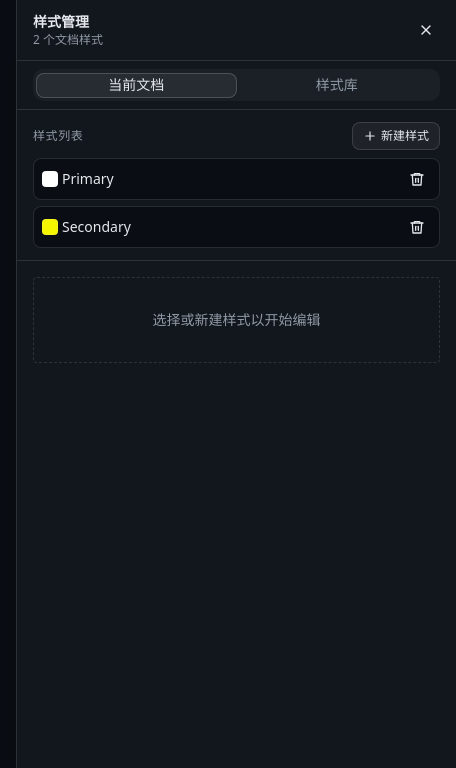
Test: StyleManager library integration › does not flash a duplicate-name warning when switching document styles
Click the button "Primary".
click(88, 178)  # box [33,158,440,200]
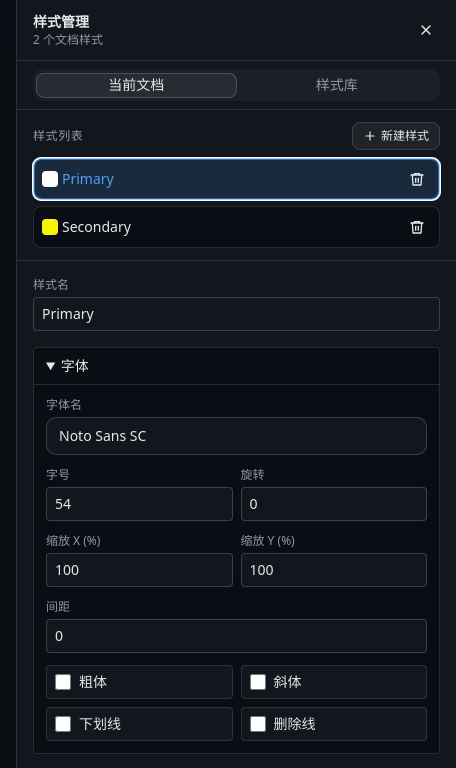
Click the button "Secondary".
click(96, 226)  # box [33,206,440,248]
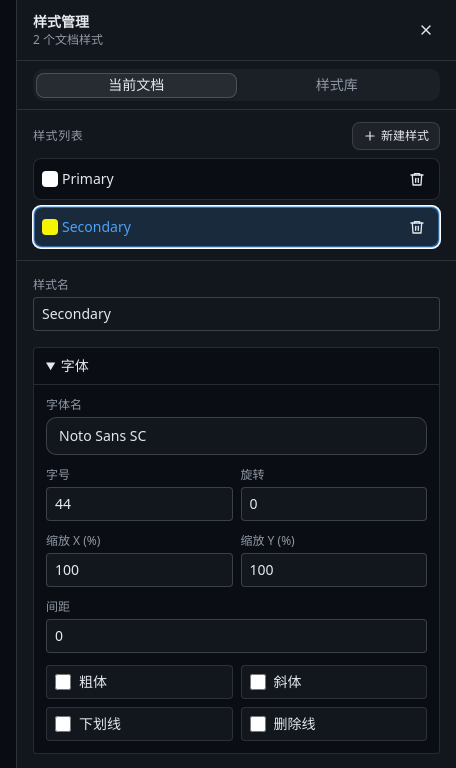
Now the field showing "Secondary" is shown, box [33,297,440,331]
